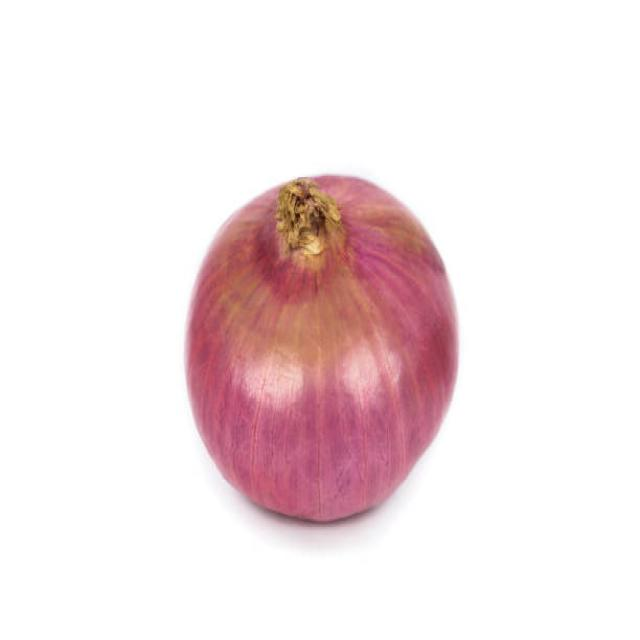onion: (184, 168, 467, 528)
